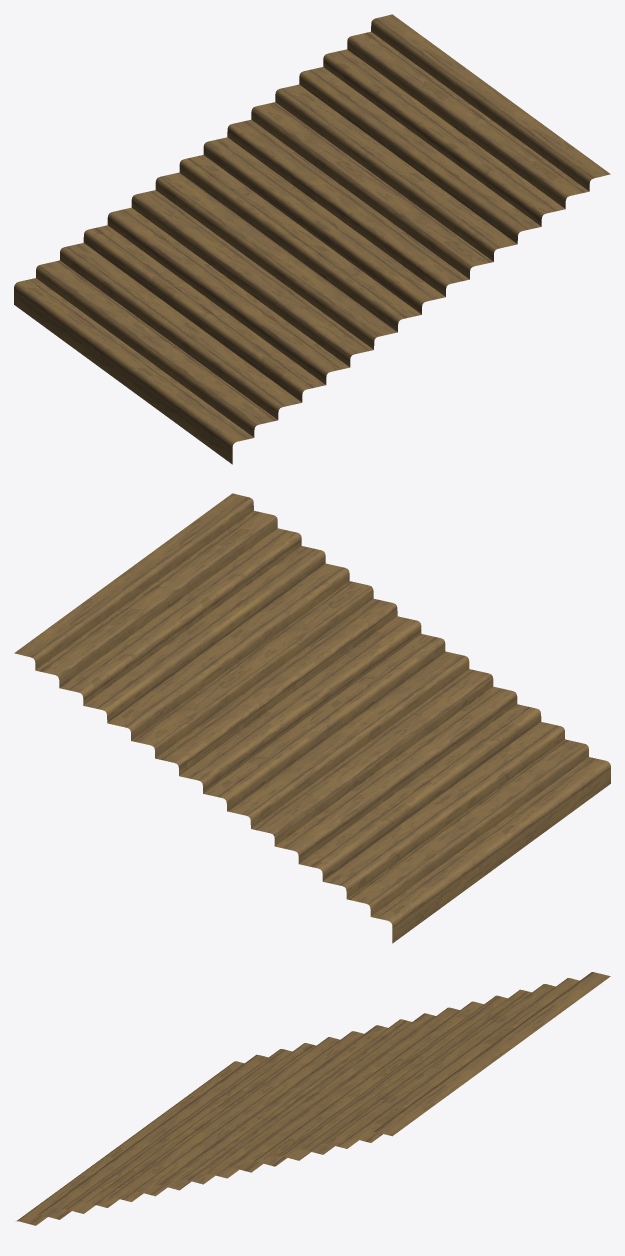
The model's file is SM_stairs_01.glb.
The picture shows the model from 3 angles, top to bottom: view 1: azimuth 30°, elevation 25°; view 2: azimuth 150°, elevation 25°; view 3: azimuth 330°, elevation 25°; orthographic projection.
Visible parts, largest first — view 1: SM_stairs_01; view 2: SM_stairs_01; view 3: SM_stairs_01.
Boxes of the visible parts, box(x1,y1,x2,y2) form: SM_stairs_01: box(14, 14, 610, 464); SM_stairs_01: box(14, 493, 610, 943); SM_stairs_01: box(16, 972, 610, 1225).
Bounding box in the file's own units: 3.2 × 1.6 × 3.2.
Materials: 1 (1 with a texture image).
